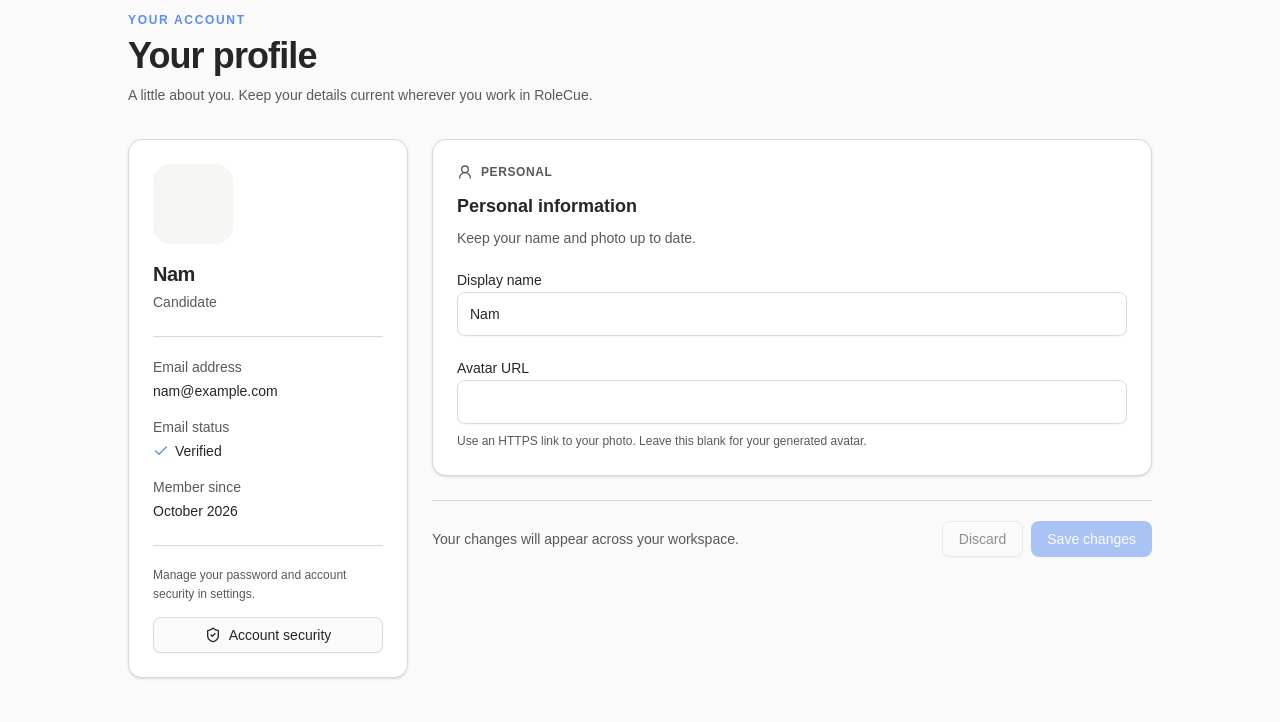
Test: own profile screen › recovers from a rejected save after fresh session and profile checks succeed
Step 1. Replace the text in the field labelled "Display name" with "Rejected draft" → coordinates (792, 314), box 457,292 -> 1127,336
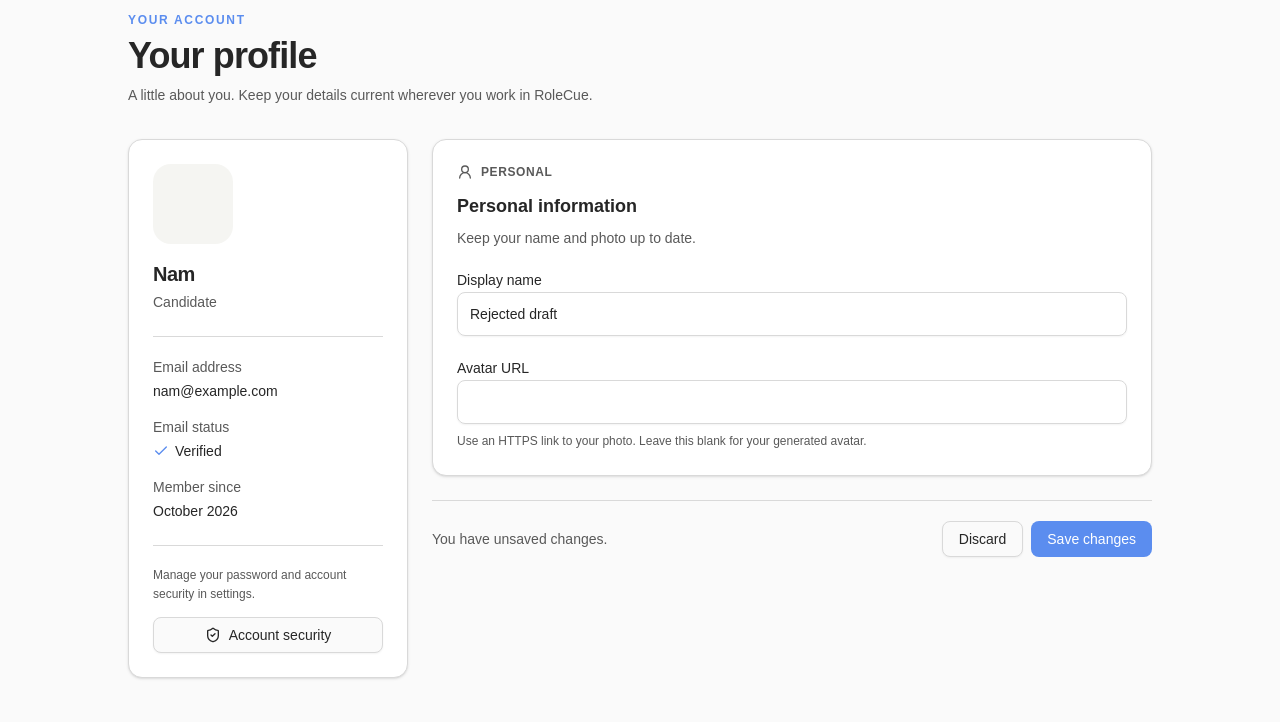
Result: the button "Save changes" is enabled
Step 2. Click the button "Save changes" → coordinates (1092, 539), box 1031,521 -> 1152,557
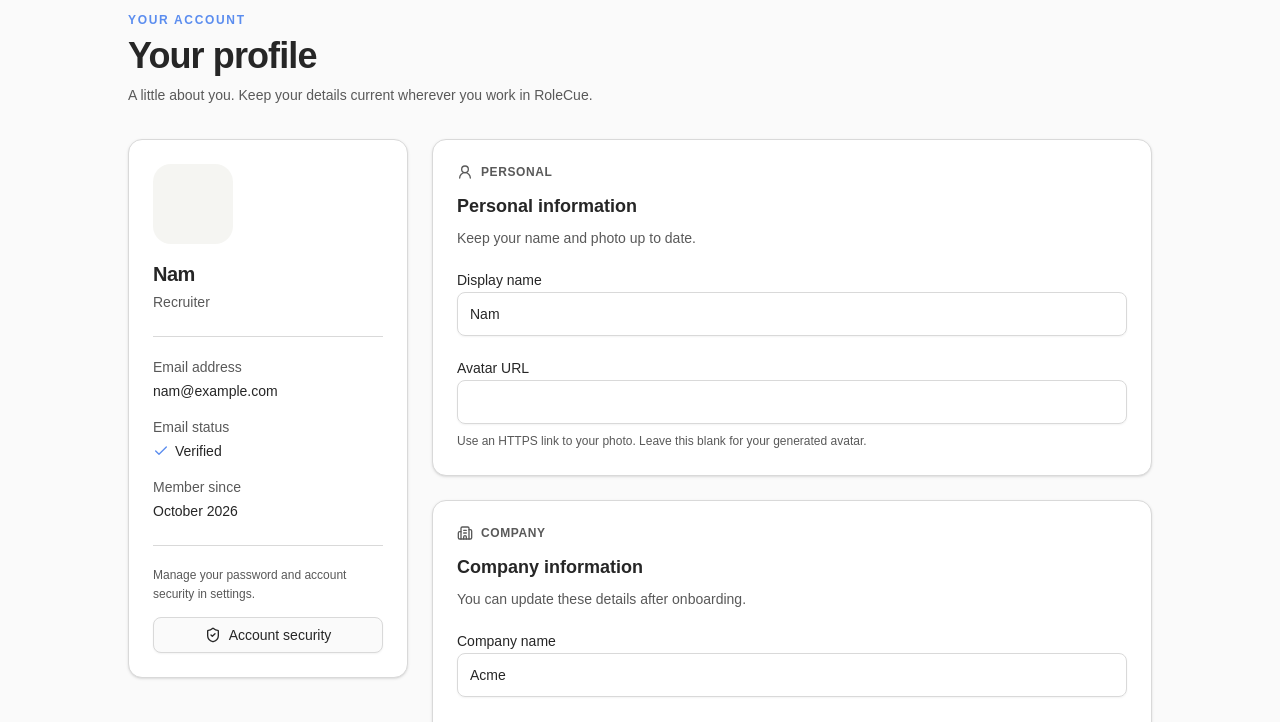
Result: the field labelled "Company name" holds "Acme" at 457,653 -> 1127,697
Result: the field labelled "Display name" holds "Nam" at 457,292 -> 1127,336
